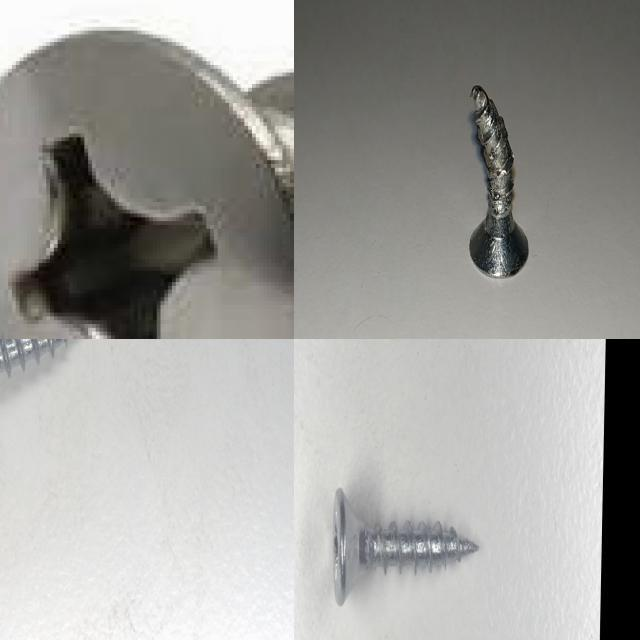Screw: (0, 27, 294, 339), (333, 488, 478, 605), (470, 84, 529, 277)
